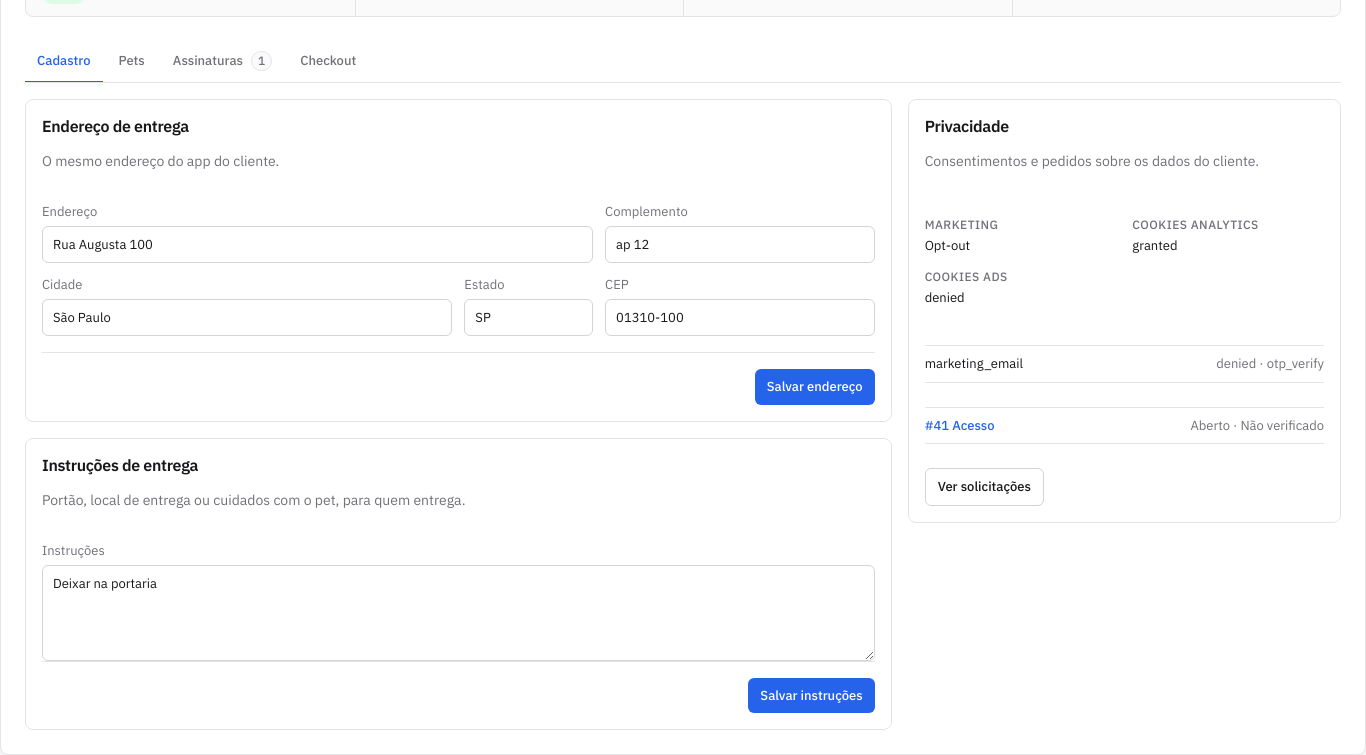
UserDetailPage › loads customer detail and PATCHes delivery instructions
(page scrolled)
Expected: the field showing "Rua Augusta 100" is shown, [42,226,593,263]
Expected: the text "Opt-out" is shown, [925,237,970,254]
Replace the text in the text box labelled "Instruções" with "Portão 2": (458, 613) [42,565,875,661]
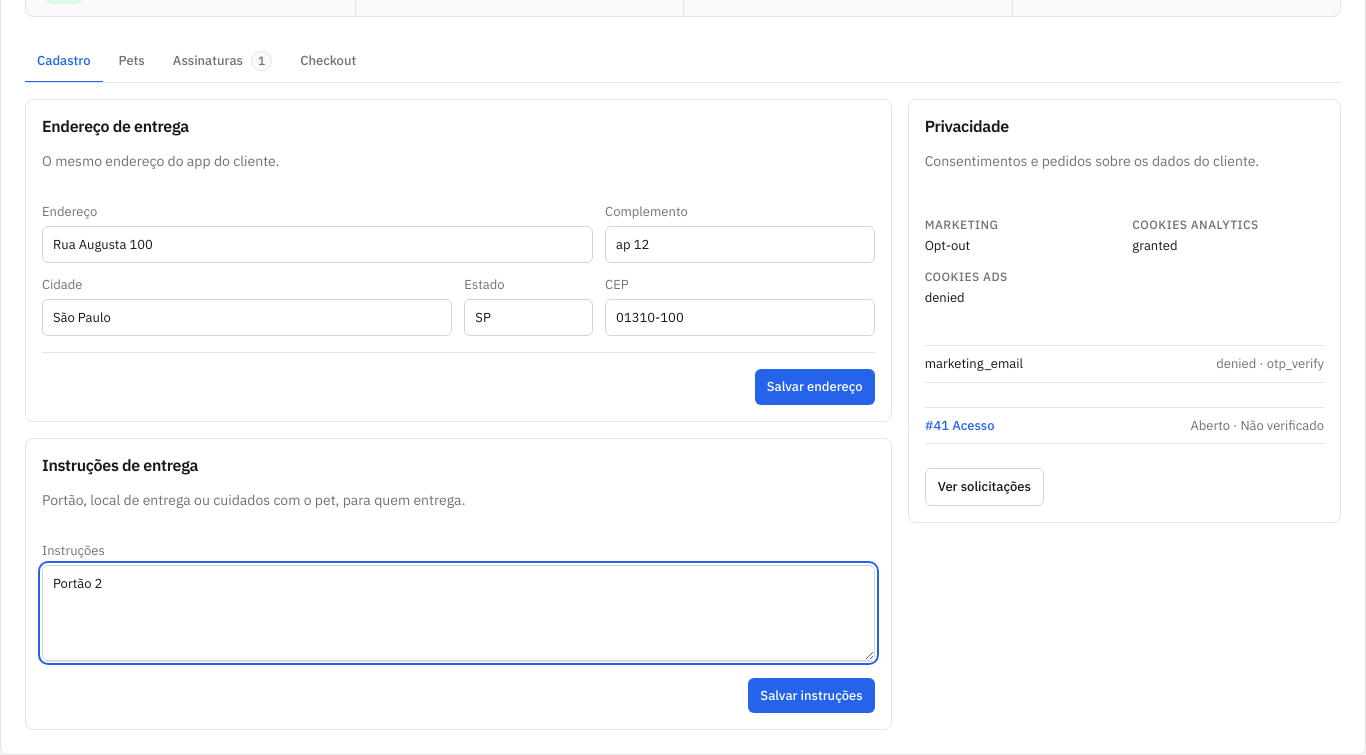
Click the button "Salvar instruções": click(811, 695) [748,678,875,713]
(page scrolled)
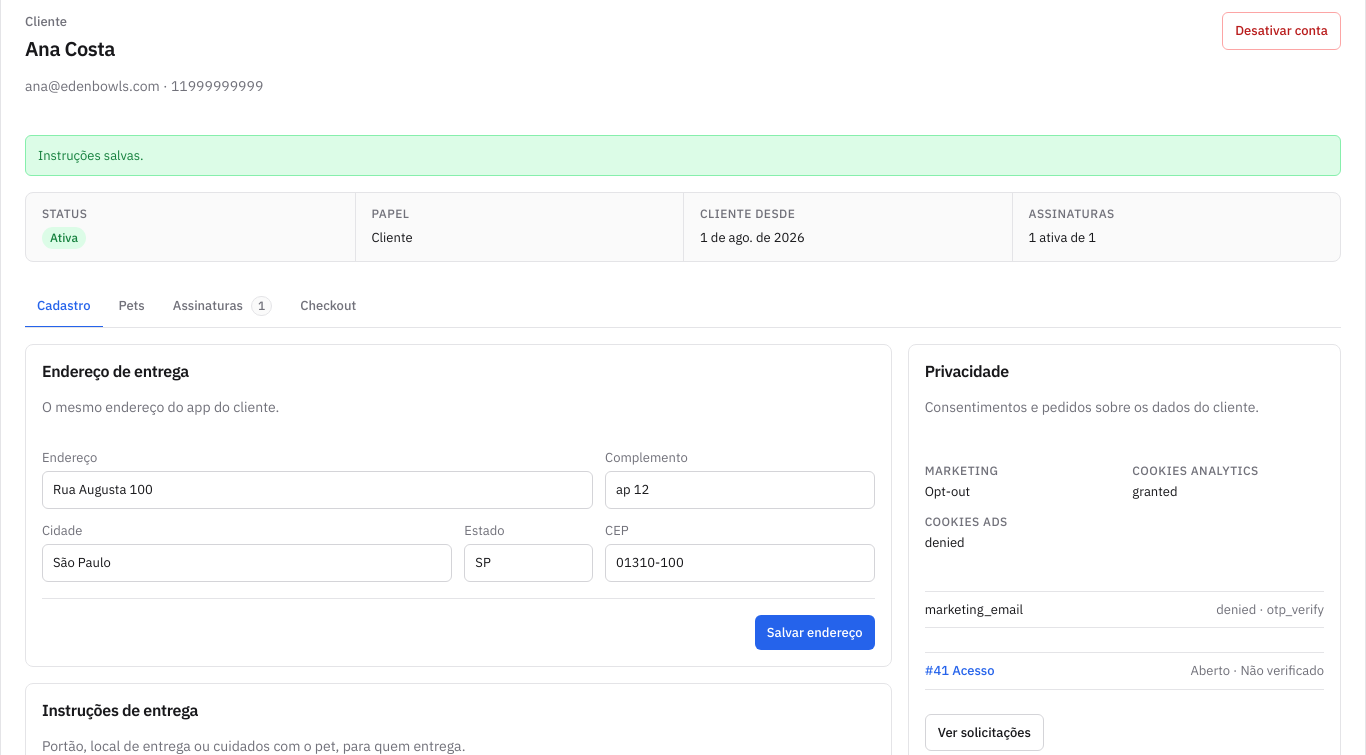
Now the text "Instruções salvas." is shown, box [25,134,1341,176]
